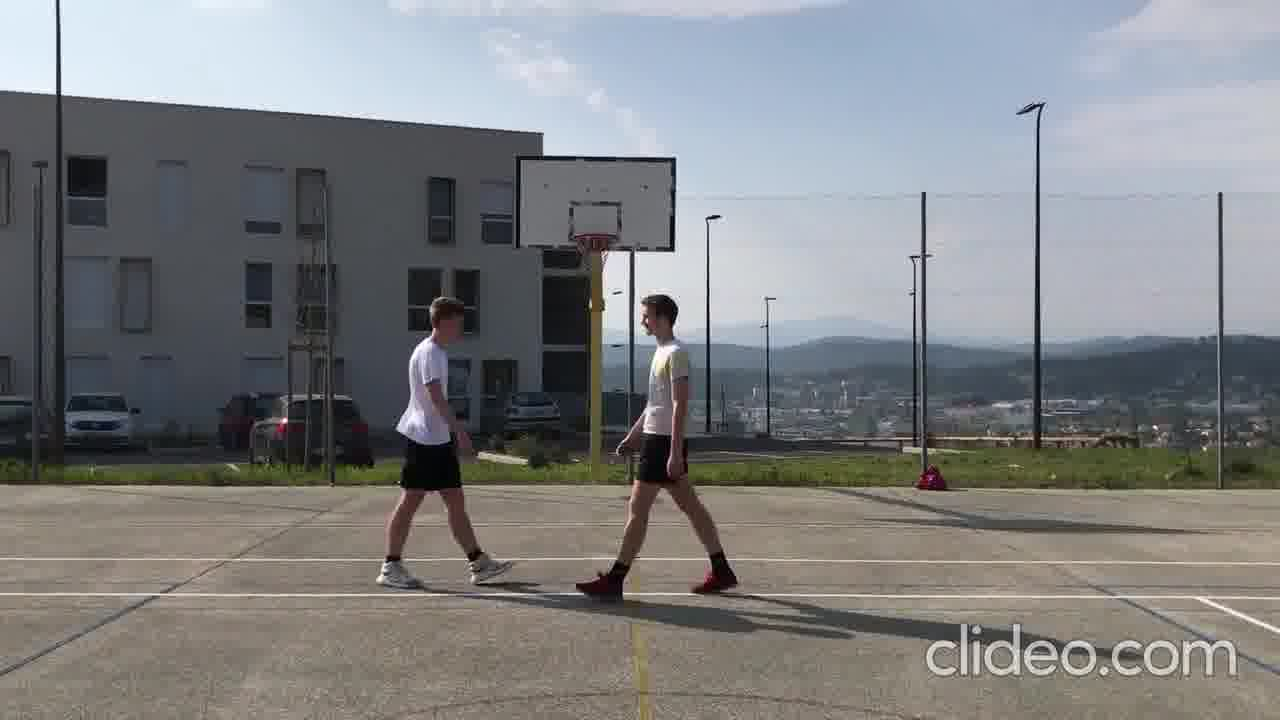jugador: (561, 288, 746, 613)
